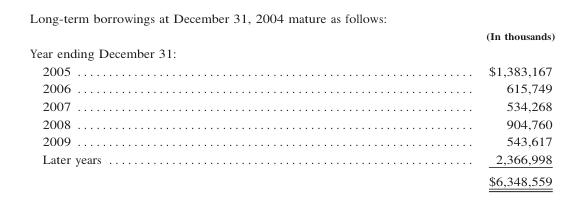table: (29, 28, 554, 188)
table column: (29, 28, 479, 188), (479, 28, 554, 188)
table column header: (29, 28, 554, 43)
table projected row header: (29, 43, 554, 61)
table row: (29, 149, 554, 169), (29, 169, 554, 188), (29, 43, 554, 61), (29, 78, 554, 96), (29, 96, 554, 114), (29, 131, 554, 149), (29, 61, 554, 78), (29, 114, 554, 131), (29, 28, 554, 43)
